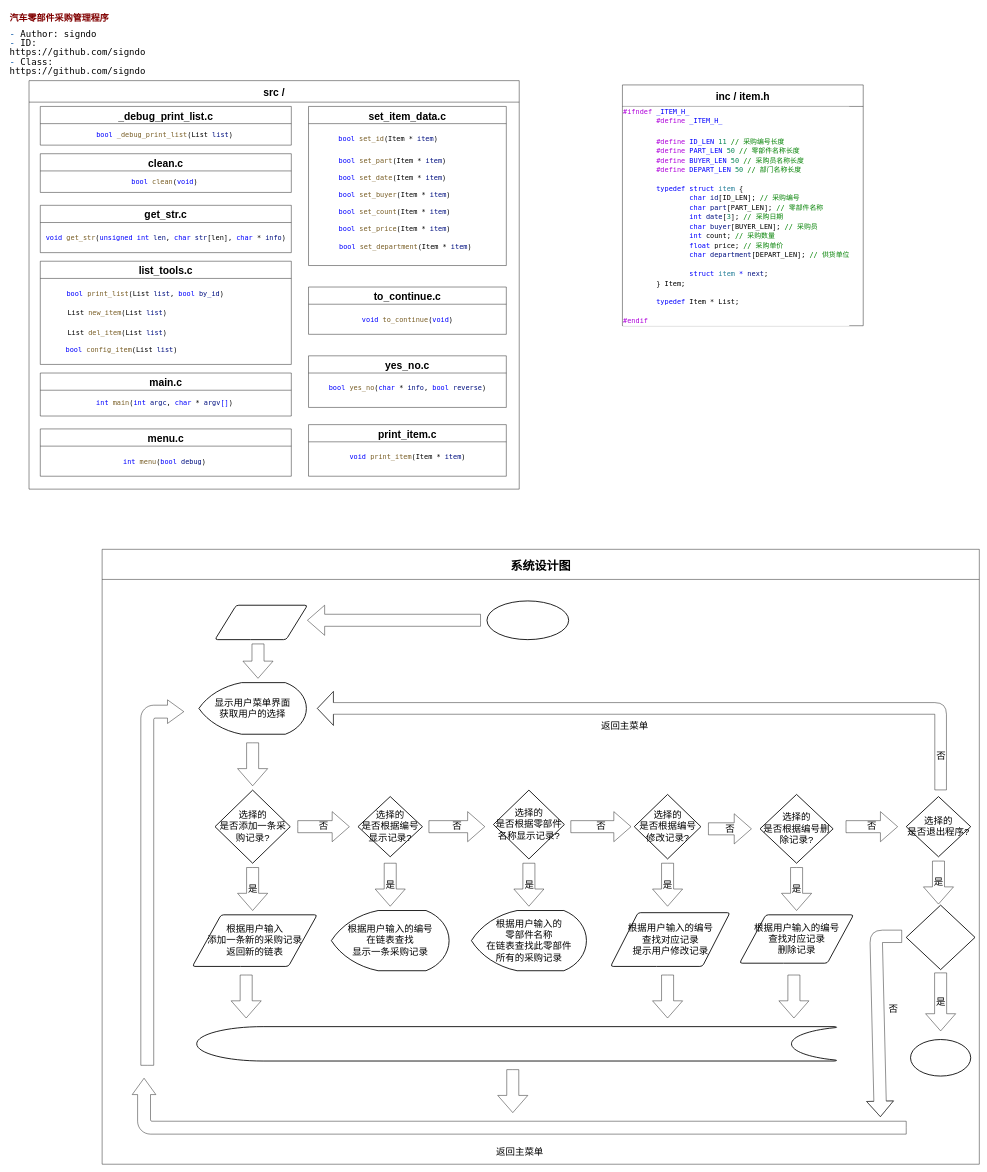
Image size: 987x1172. Some labels were removed from this diagram. Each missing label, with the centre of its shape:
"保存新链表" goes at (x=517, y=1043).
"初始化 采购信息链表" goes at (x=261, y=622).
"启动程序" goes at (x=527, y=620).
"确认用户 是否真的退出?" goes at (x=940, y=937).
"结束程序" goes at (x=940, y=1057).
